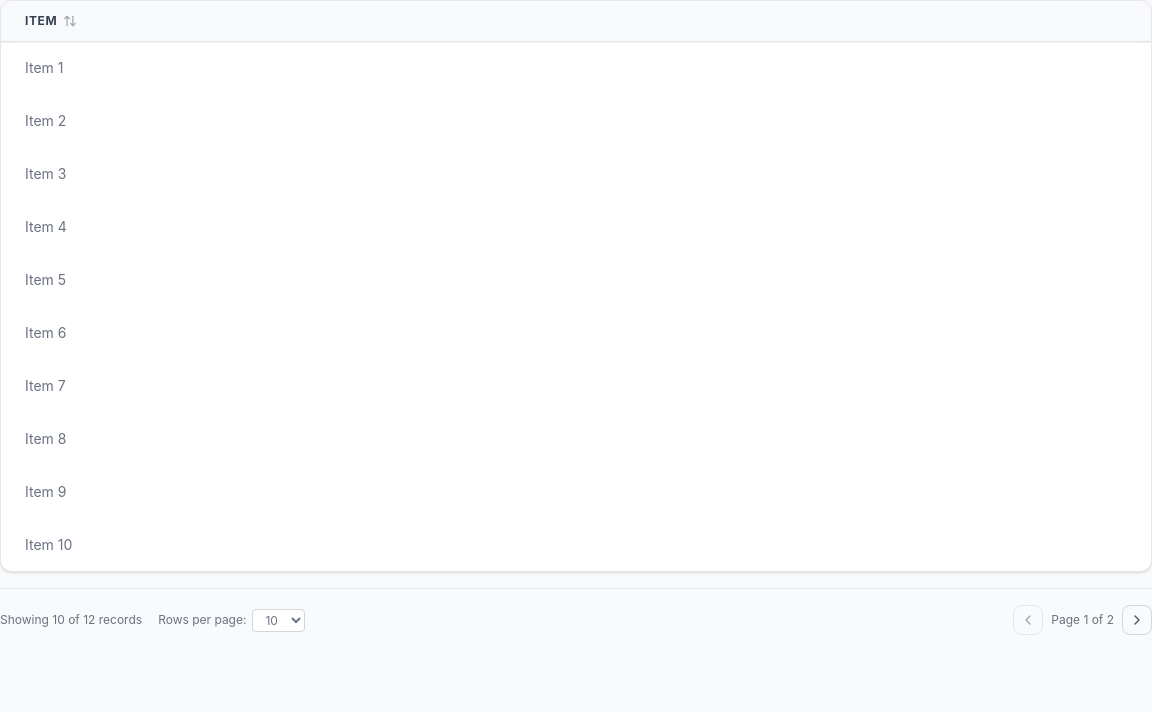
advances table pages and changes page size without recursive updates
The width and height of the screenshot is (1152, 712).
Click the button named "next page": (1137, 620) [1122,605,1151,635]
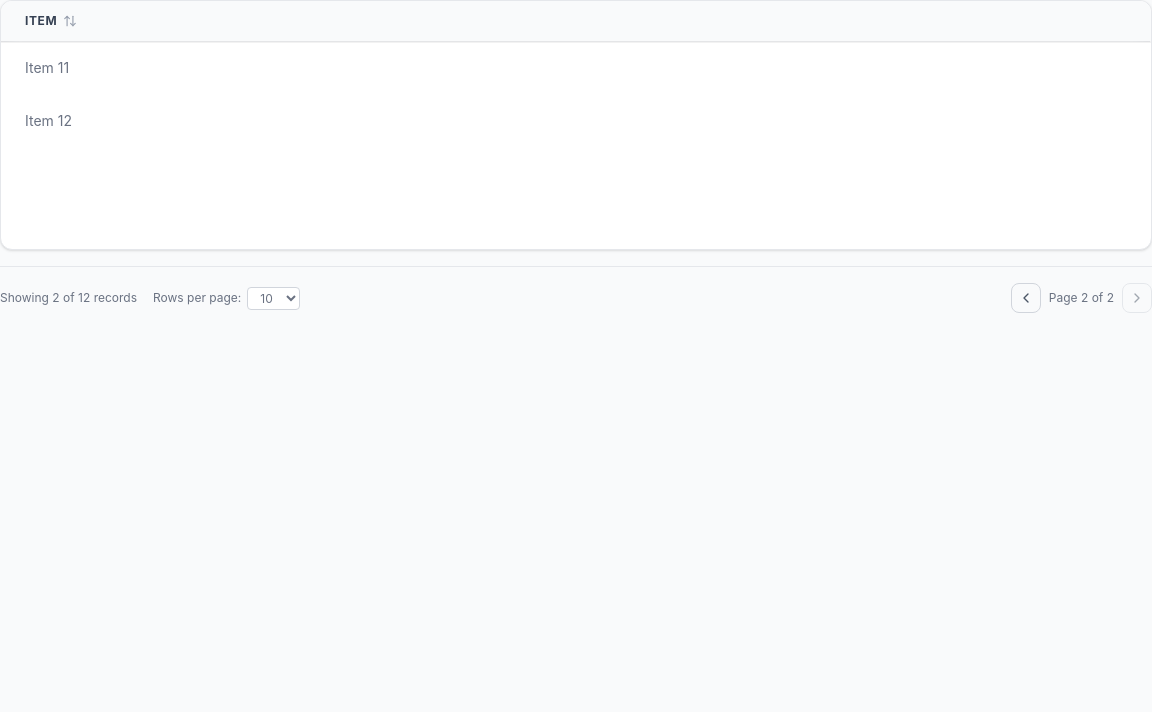
Check: the text "Item 11" is shown, box [1,42,1150,94]
Select "25" in the dropdown: (274, 298) [247,286,300,310]
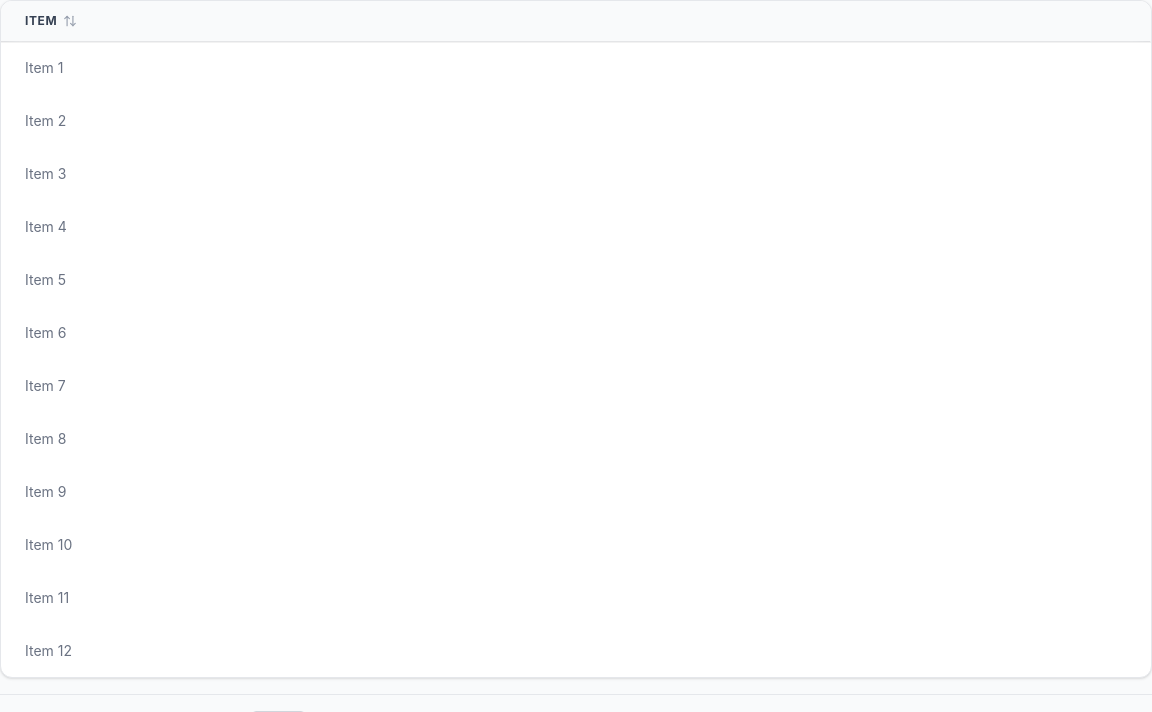
Check: the text "Item 12" is shown, box [1,624,1150,677]
Check: the text "Item 1" is shown, box [1,42,1150,94]
